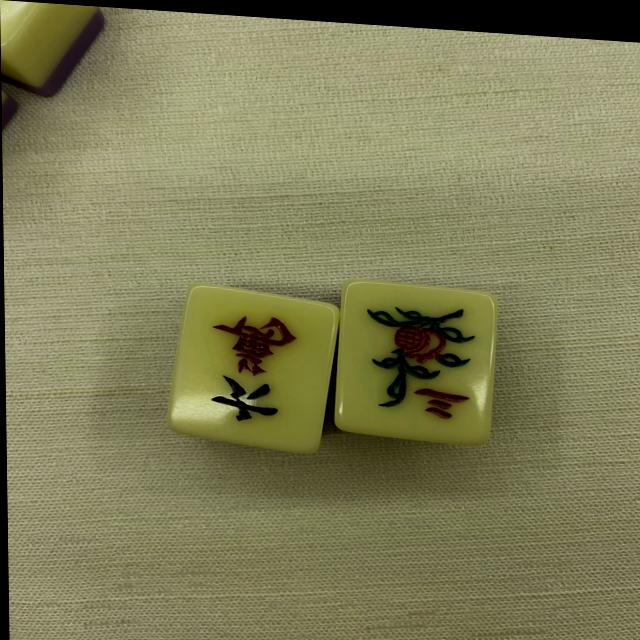ff3: (335, 287, 493, 449)
m6: (168, 285, 337, 458)
